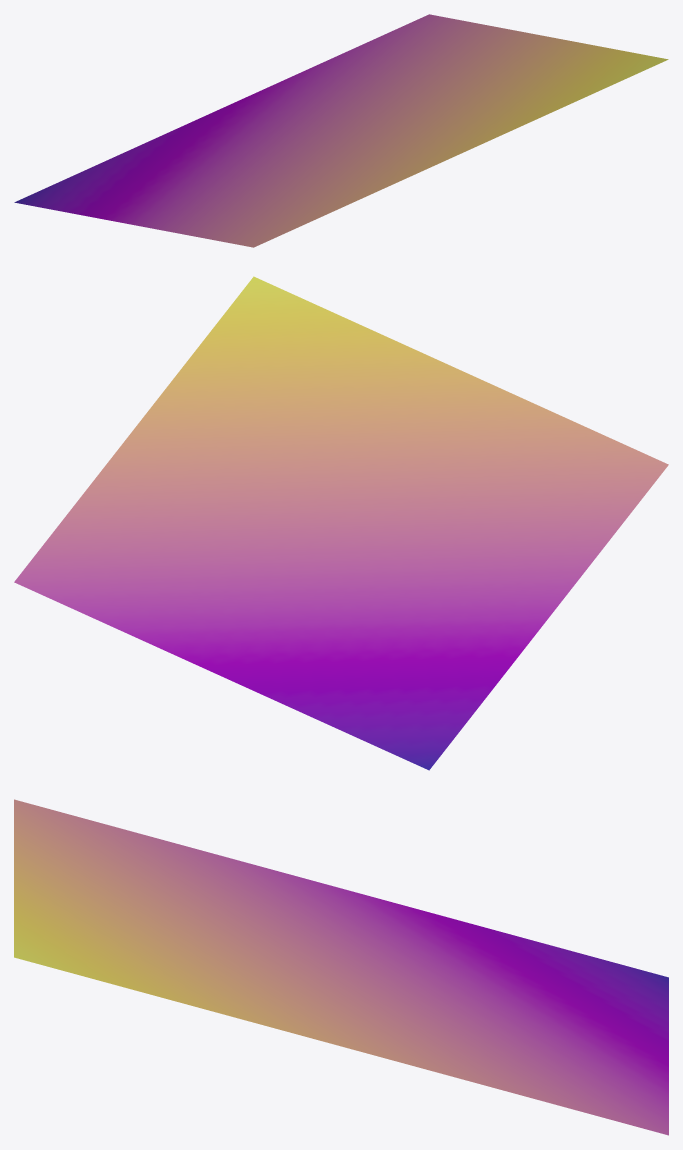
File: graph_50a9855f.glb
3 views of the same model, one above another, from view 1: azimuth 30°, elevation 25°; view 2: azimuth 150°, elevation 25°; view 3: azimuth 270°, elevation 25° (orthographic). The views are drawn at different scales.
Visible parts, largest first — view 1: geometry_0; view 2: geometry_0; view 3: geometry_0.
Part boxes in pixels (x1,y1,x2,y2): geometry_0: [14, 14, 668, 247]; geometry_0: [14, 276, 668, 770]; geometry_0: [14, 799, 668, 1135].
Bounding box in the file's own units: 1 × 0.5 × 1.
